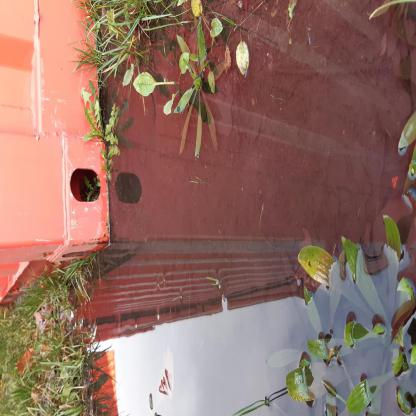CornerCasting: (58, 128, 110, 245), (108, 136, 146, 244)
